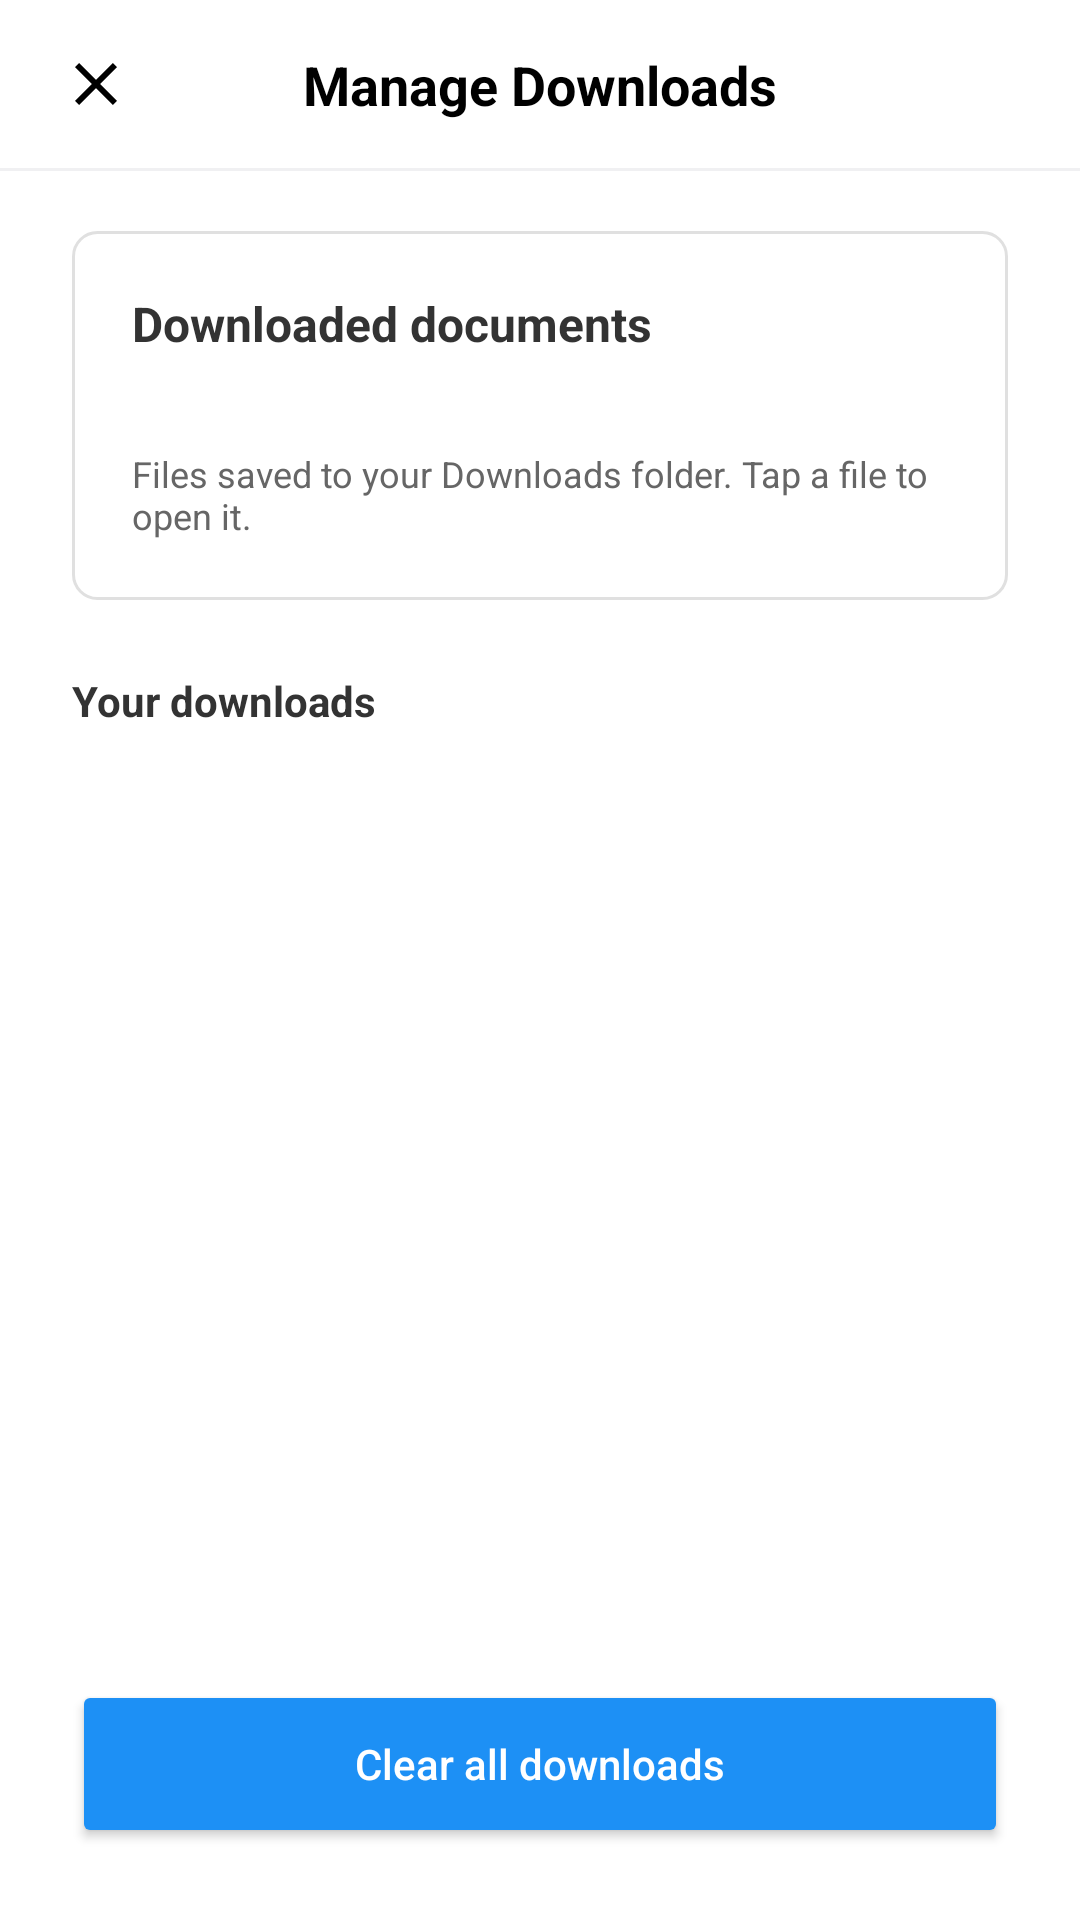

Point at icon controls on the screen. Image size 1080x1920, points as [x,y].
close: [96,84]
